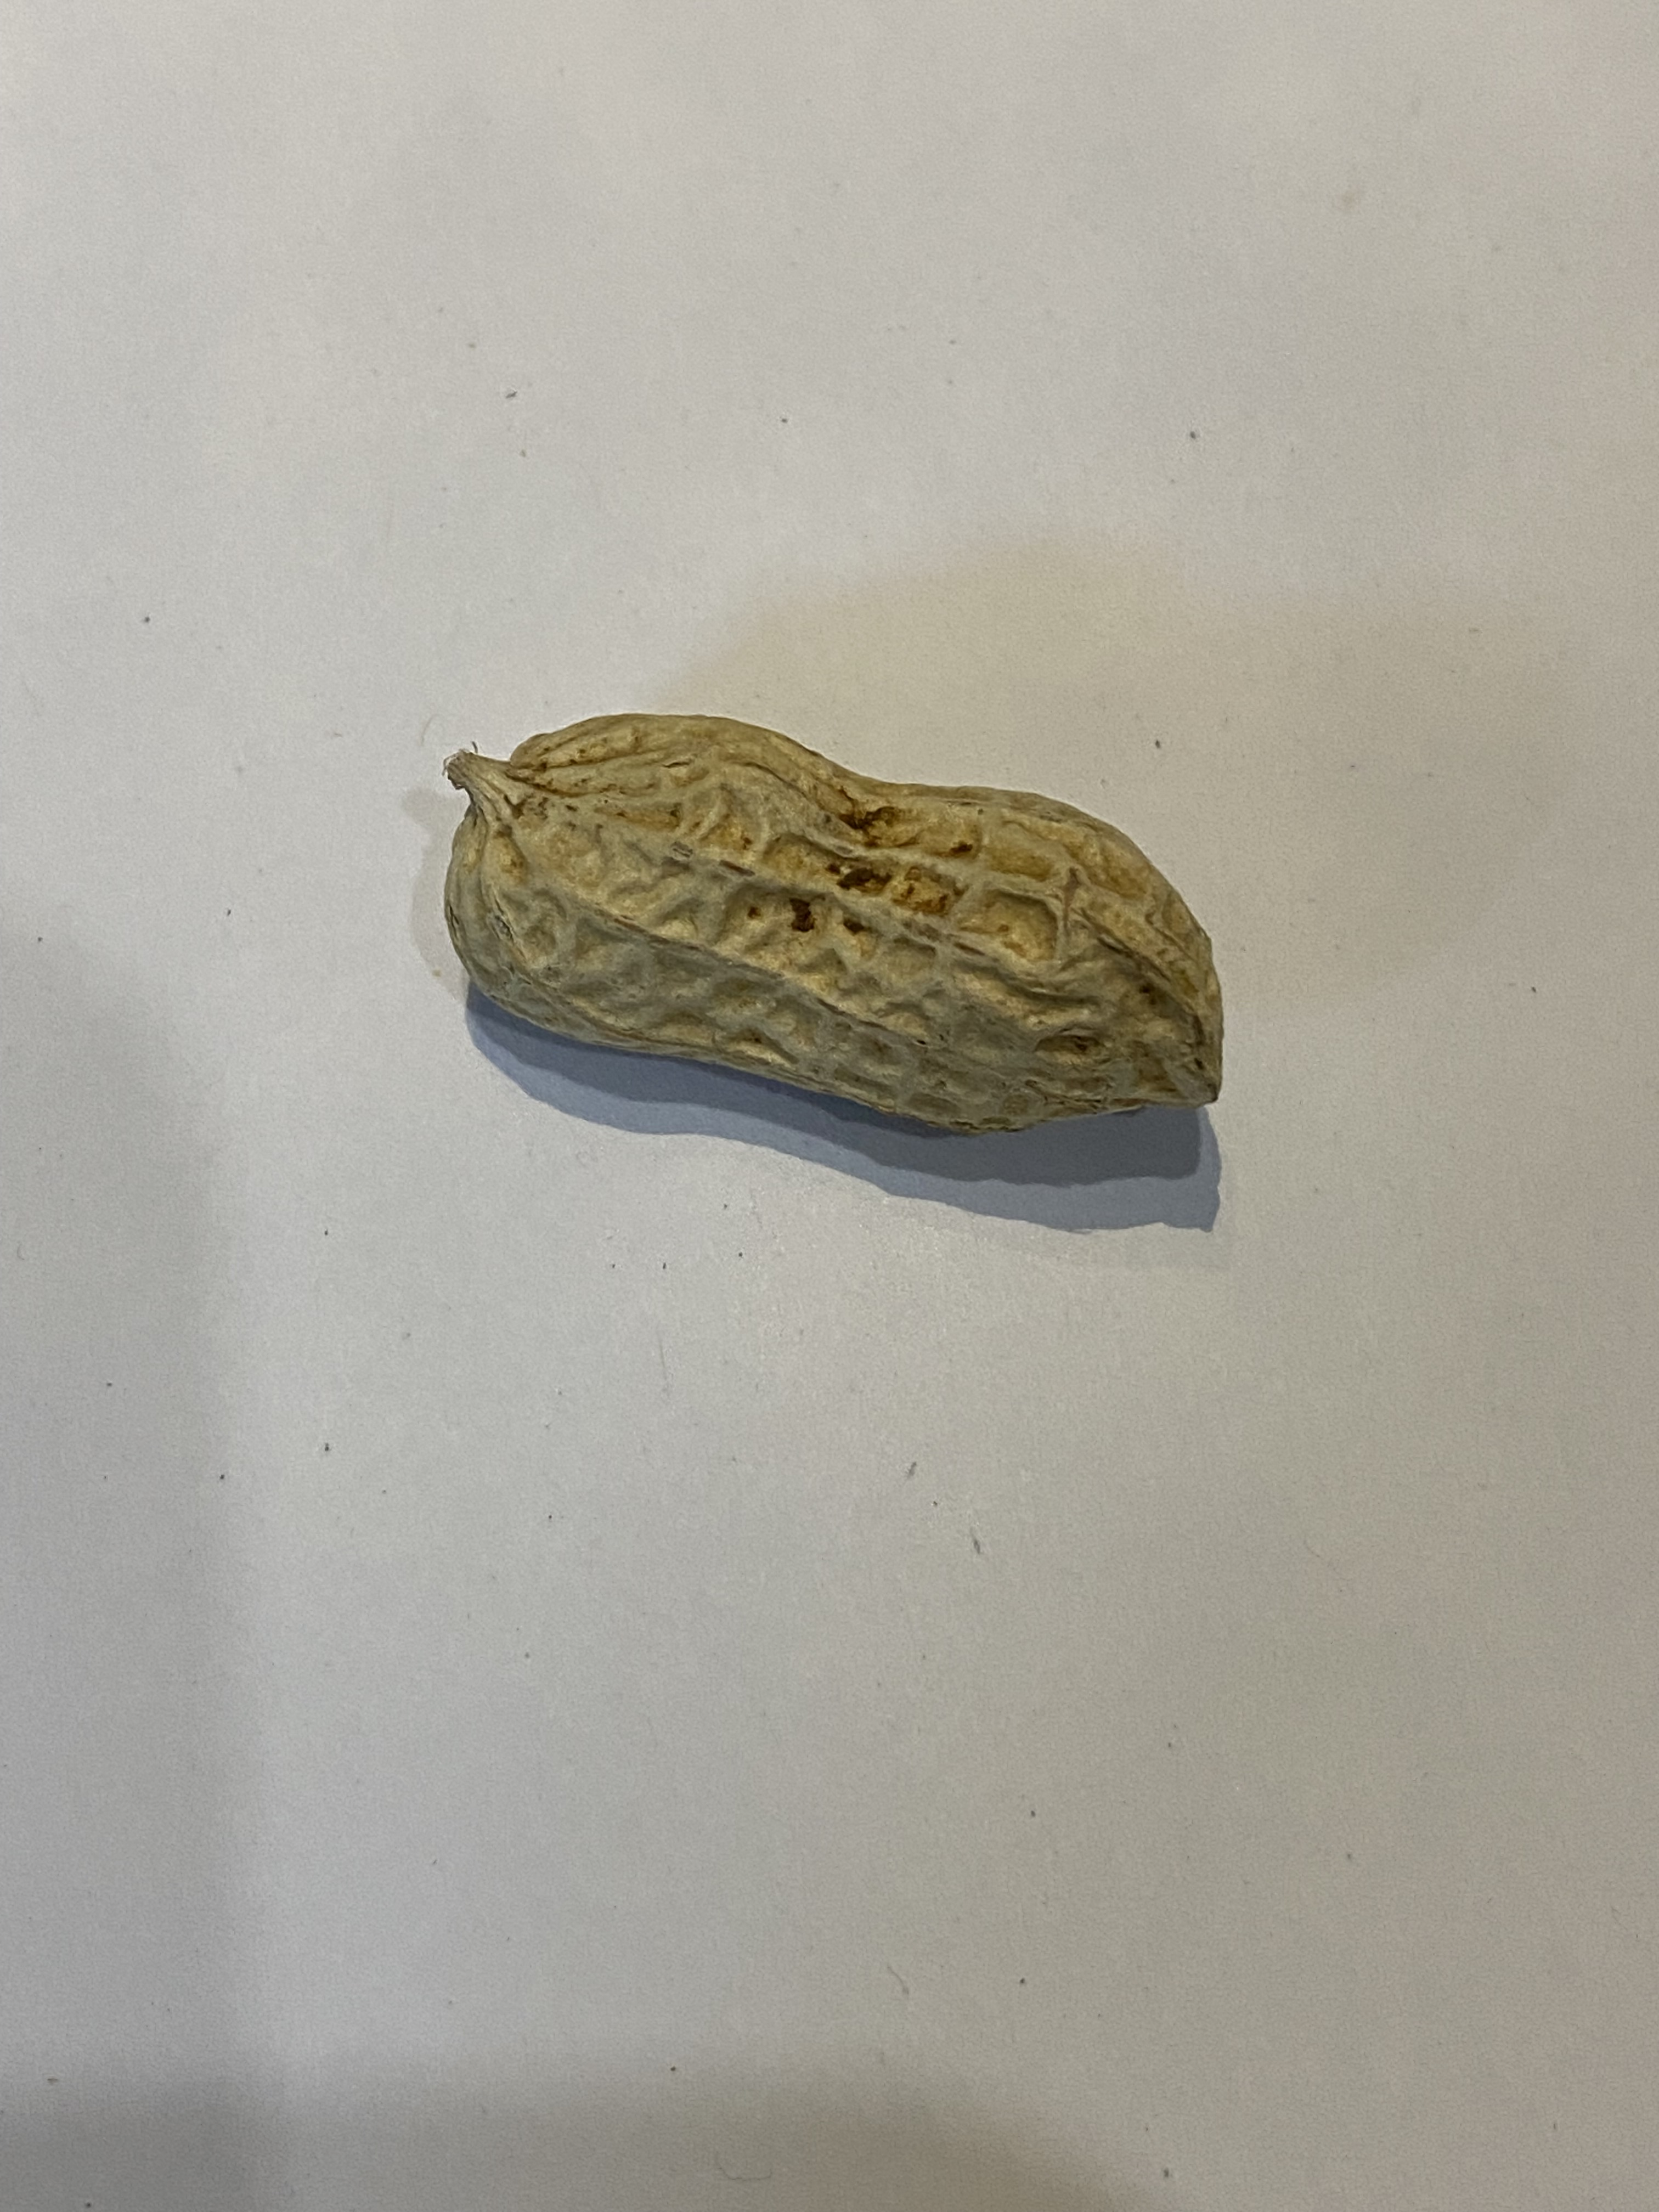kacang2: (371, 650, 1263, 1160)
